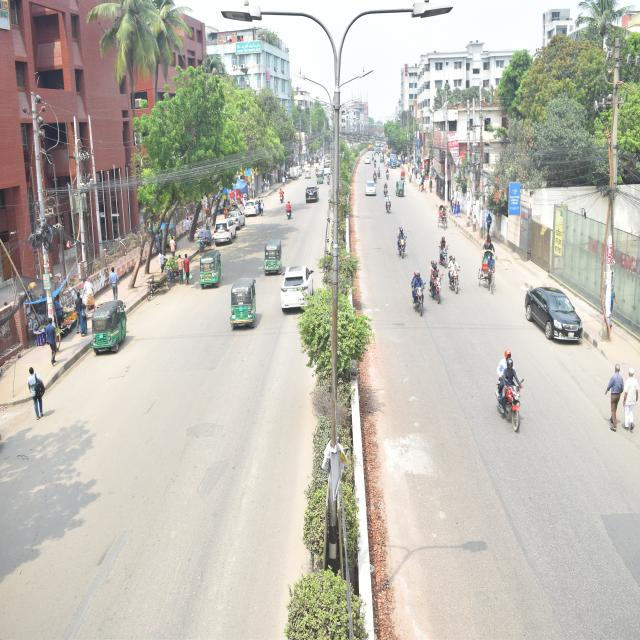bus: (373, 139, 384, 157)
car: (524, 260, 594, 374), (272, 254, 324, 349), (224, 192, 254, 256), (238, 182, 269, 228), (207, 212, 235, 262), (300, 176, 322, 218), (319, 159, 336, 179), (364, 173, 377, 198), (364, 151, 370, 176)
motorbike: (484, 339, 548, 477), (403, 262, 437, 340), (421, 250, 441, 326), (395, 218, 411, 282), (446, 252, 465, 298), (434, 225, 454, 262), (278, 198, 299, 226), (383, 193, 397, 223), (378, 175, 391, 206), (371, 168, 381, 195), (276, 185, 287, 207), (323, 168, 333, 189), (372, 168, 384, 182), (384, 165, 393, 182), (313, 163, 322, 178), (373, 159, 380, 175), (371, 152, 376, 164)
pickup-van: (386, 154, 405, 177), (287, 161, 302, 190)
